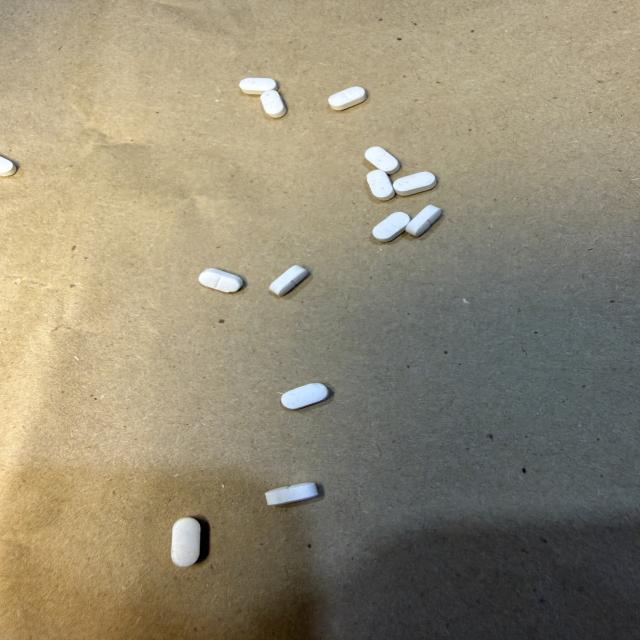pill: (172, 518, 200, 566), (281, 383, 328, 409), (269, 266, 308, 296), (265, 483, 318, 505), (373, 212, 410, 242), (406, 205, 441, 236), (199, 269, 243, 292), (394, 172, 436, 195), (365, 147, 399, 174), (329, 87, 366, 110), (367, 170, 394, 200), (260, 90, 287, 118), (240, 78, 277, 94), (0, 157, 16, 176)
